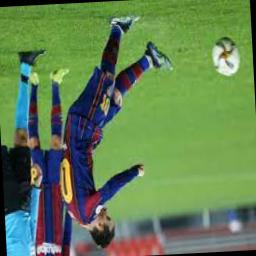football: (210, 35, 243, 77)
